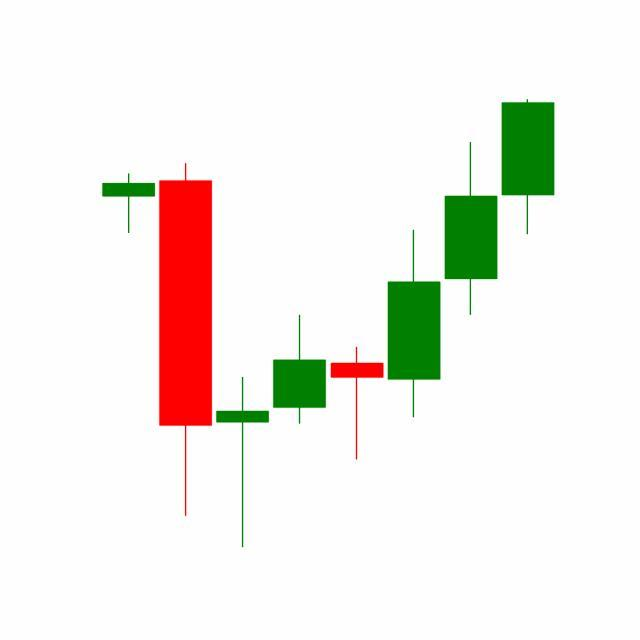Three Outside Up-Down: (328, 140, 500, 465)
